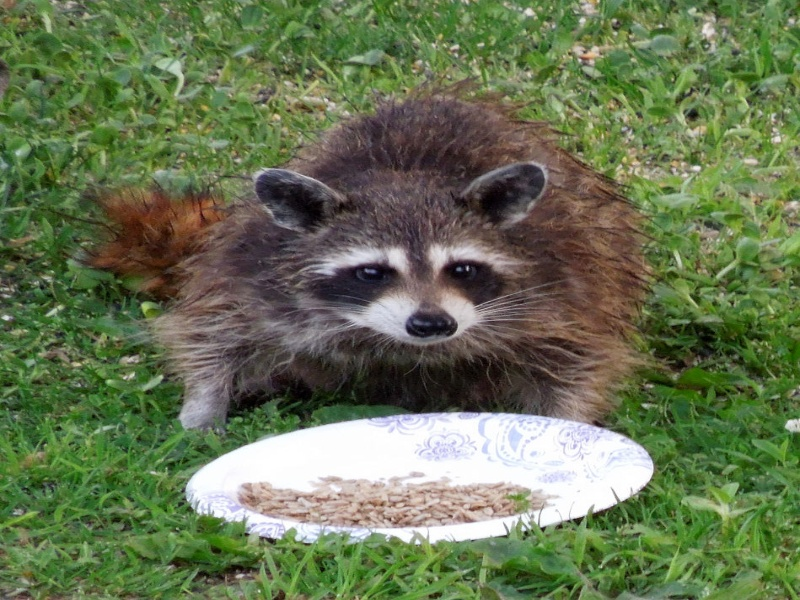raccoon: (82, 86, 652, 431)
